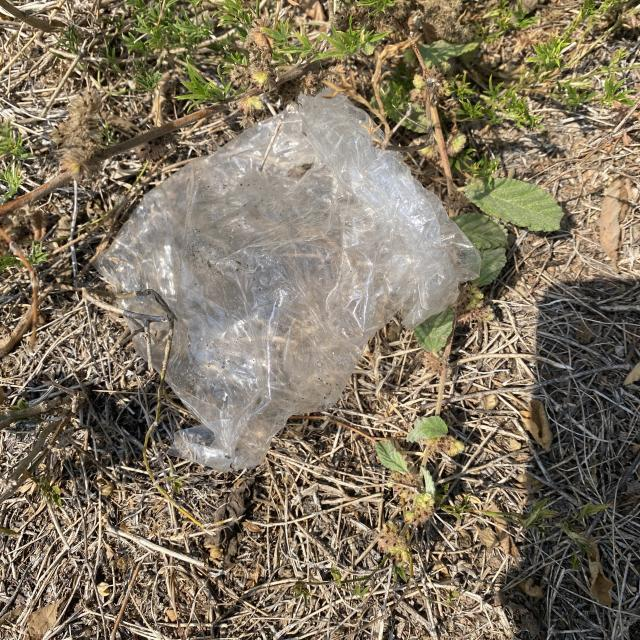Single-layer Plastic: (93, 94, 480, 474)
